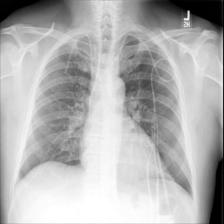normal: (11, 27, 198, 203)
